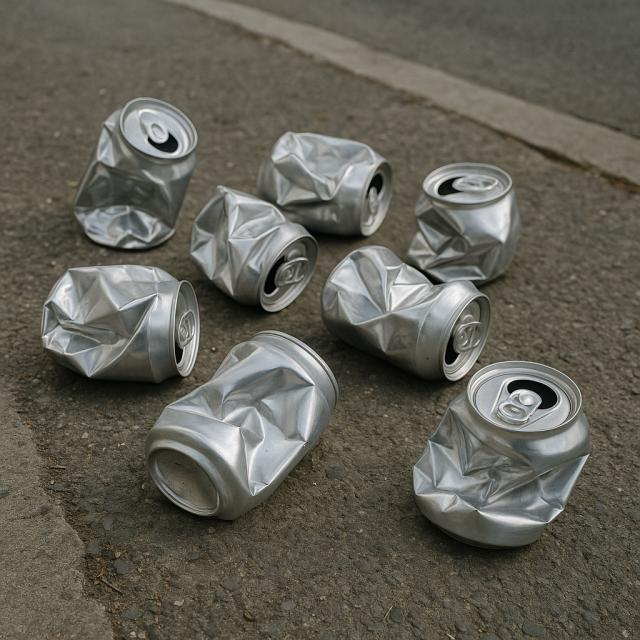aluminum: (144, 316, 343, 523), (411, 358, 593, 544), (78, 97, 196, 253), (412, 162, 517, 284)
